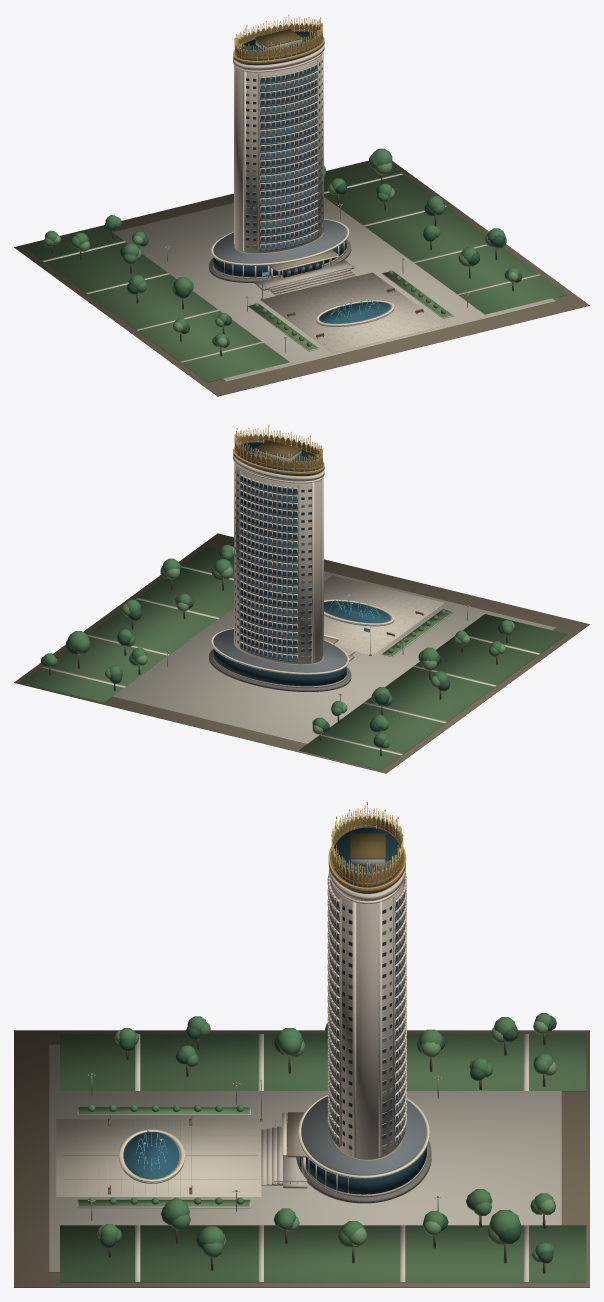
File: hotel_kazakhstan.glb
The picture shows the model from 3 angles, top to bottom: view 1: azimuth 30°, elevation 25°; view 2: azimuth 150°, elevation 25°; view 3: azimuth 270°, elevation 25°; orthographic projection. The views are drawn at different scales.
Parts seen in each view (by area): view 1: kazakhstan_hotel_grass, kazakhstan_hotel_paving, kazakhstan_hotel_soil, kazakhstan_hotel_paving_alt, kazakhstan_hotel_stone_light, kazakhstan_hotel_concrete, kazakhstan_hotel_glass, kazakhstan_hotel_tree_mid, kazakhstan_hotel_frame, kazakhstan_hotel_curtain_spandrel, kazakhstan_hotel_glass_dark, kazakhstan_hotel_glass_light (+13 smaller); view 2: kazakhstan_hotel_grass, kazakhstan_hotel_paving, kazakhstan_hotel_soil, kazakhstan_hotel_paving_alt, kazakhstan_hotel_concrete, kazakhstan_hotel_stone_light, kazakhstan_hotel_glass, kazakhstan_hotel_tree_mid, kazakhstan_hotel_frame, kazakhstan_hotel_curtain_spandrel, kazakhstan_hotel_glass_dark, kazakhstan_hotel_glass_light (+12 smaller); view 3: kazakhstan_hotel_grass, kazakhstan_hotel_paving, kazakhstan_hotel_soil, kazakhstan_hotel_paving_alt, kazakhstan_hotel_concrete, kazakhstan_hotel_tree_mid, kazakhstan_hotel_stone_light, kazakhstan_hotel_glass_dark, kazakhstan_hotel_roof, kazakhstan_hotel_frame, kazakhstan_hotel_stone_details, kazakhstan_hotel_curb (+14 smaller).
Boxes of the visible parts, box(x1,y1,x2,y2) form: kazakhstan_hotel_grass: box(22, 161, 566, 382); kazakhstan_hotel_paving: box(113, 197, 555, 381); kazakhstan_hotel_soil: box(14, 160, 589, 396); kazakhstan_hotel_paving_alt: box(42, 173, 540, 362); kazakhstan_hotel_stone_light: box(224, 43, 346, 279); kazakhstan_hotel_concrete: box(235, 55, 322, 253); kazakhstan_hotel_glass: box(260, 65, 316, 241); kazakhstan_hotel_tree_mid: box(44, 148, 519, 346); kazakhstan_hotel_frame: box(259, 64, 317, 250); kazakhstan_hotel_curtain_spandrel: box(259, 69, 317, 251); kazakhstan_hotel_glass_dark: box(213, 31, 346, 277); kazakhstan_hotel_glass_light: box(260, 72, 318, 275); kazakhstan_hotel_grass: box(22, 546, 567, 770); kazakhstan_hotel_paving: box(112, 571, 555, 743); kazakhstan_hotel_soil: box(14, 533, 589, 773); kazakhstan_hotel_paving_alt: box(42, 565, 540, 755); kazakhstan_hotel_concrete: box(235, 465, 322, 664); kazakhstan_hotel_stone_light: box(233, 455, 346, 674); kazakhstan_hotel_glass: box(240, 476, 297, 652); kazakhstan_hotel_tree_mid: box(44, 544, 512, 748); kazakhstan_hotel_frame: box(240, 475, 297, 661); kazakhstan_hotel_curtain_spandrel: box(240, 480, 297, 662); kazakhstan_hotel_glass_dark: box(213, 442, 346, 686); kazakhstan_hotel_glass_light: box(240, 483, 297, 660); kazakhstan_hotel_grass: box(60, 1034, 586, 1282); kazakhstan_hotel_paving: box(49, 1044, 561, 1272); kazakhstan_hotel_soil: box(14, 1030, 589, 1287); kazakhstan_hotel_paving_alt: box(56, 1034, 528, 1282); kazakhstan_hotel_concrete: box(331, 881, 403, 1159); kazakhstan_hotel_tree_mid: box(88, 1013, 554, 1257); kazakhstan_hotel_stone_light: box(302, 866, 406, 1193); kazakhstan_hotel_glass_dark: box(300, 827, 426, 1194); kazakhstan_hotel_roof: box(301, 1096, 426, 1175); kazakhstan_hotel_frame: box(329, 890, 405, 1145); kazakhstan_hotel_stone_details: box(118, 883, 429, 1182); kazakhstan_hotel_curb: box(77, 1107, 282, 1208).
Bounding box in the file's own units: 172 × 103 × 163.
